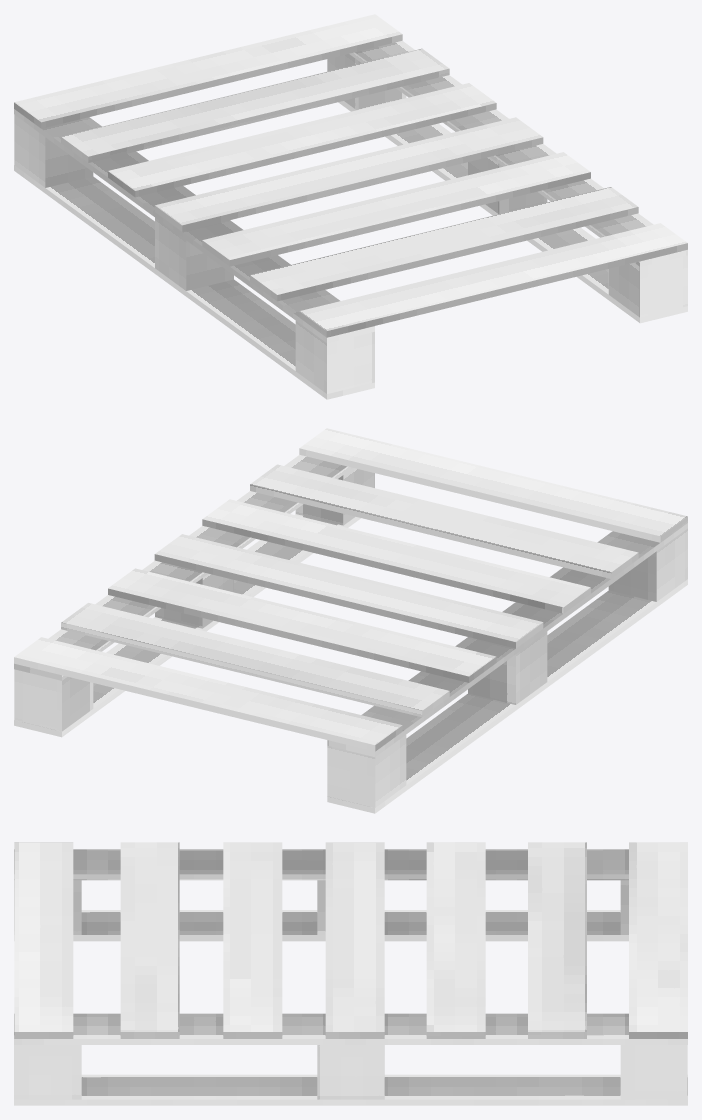
The model's file is WoodenPalletEuro.glb.
3 views of the same model, one above another, from view 1: azimuth 30°, elevation 25°; view 2: azimuth 150°, elevation 25°; view 3: azimuth 270°, elevation 25° (orthographic). The views are drawn at different scales.
Parts seen in each view (by area): view 1: WoodenPalletEuro; view 2: WoodenPalletEuro; view 3: WoodenPalletEuro.
Boxes of the visible parts, x1,y1,x2,y2 form: WoodenPalletEuro: [14, 14, 687, 399]; WoodenPalletEuro: [14, 428, 687, 813]; WoodenPalletEuro: [14, 842, 687, 1105].
Size of the model in its own units: 0.8 by 0.145 by 1.2.
Materials: 1 (1 with a texture image).
